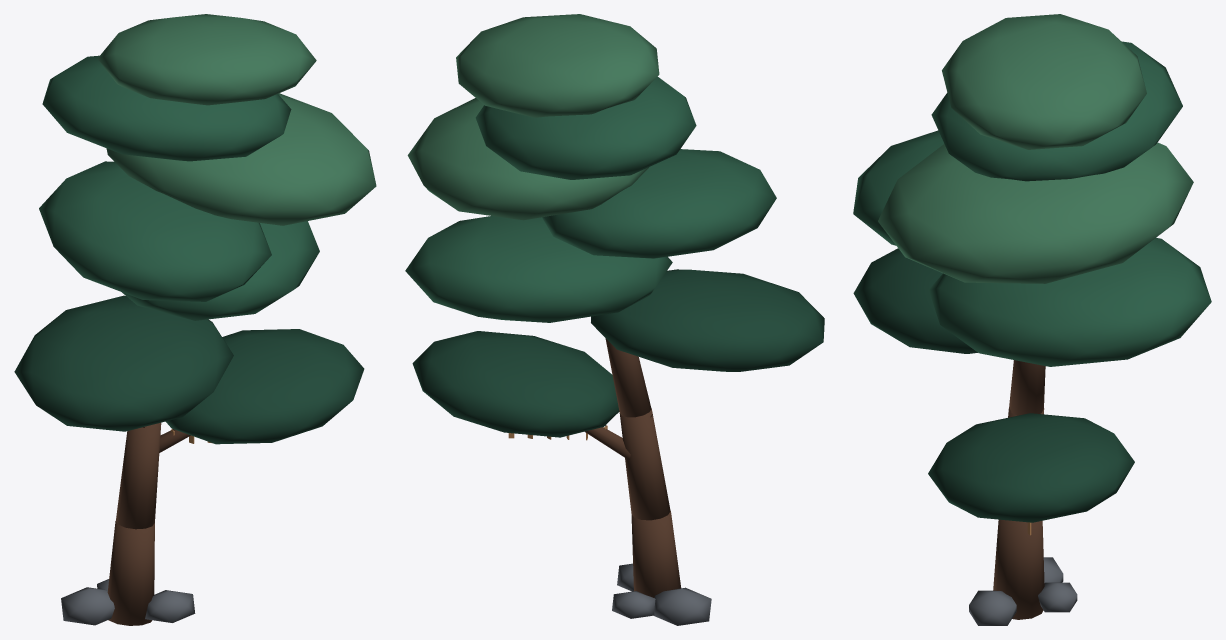
Rendered from lonely_pine_hero.glb.
3 views of the same model, side by side, from view 1: azimuth 30°, elevation 25°; view 2: azimuth 150°, elevation 25°; view 3: azimuth 270°, elevation 25° (orthographic). The views are drawn at different scales.
Visible parts, largest first — view 1: LonelyPineHero; view 2: LonelyPineHero; view 3: LonelyPineHero.
Boxes of the visible parts, <box> form: LonelyPineHero: <box>14,14,376,625</box>; LonelyPineHero: <box>405,14,824,625</box>; LonelyPineHero: <box>853,14,1211,625</box>.
Size of the model in its own units: 10.46 by 15.72 by 8.34.
